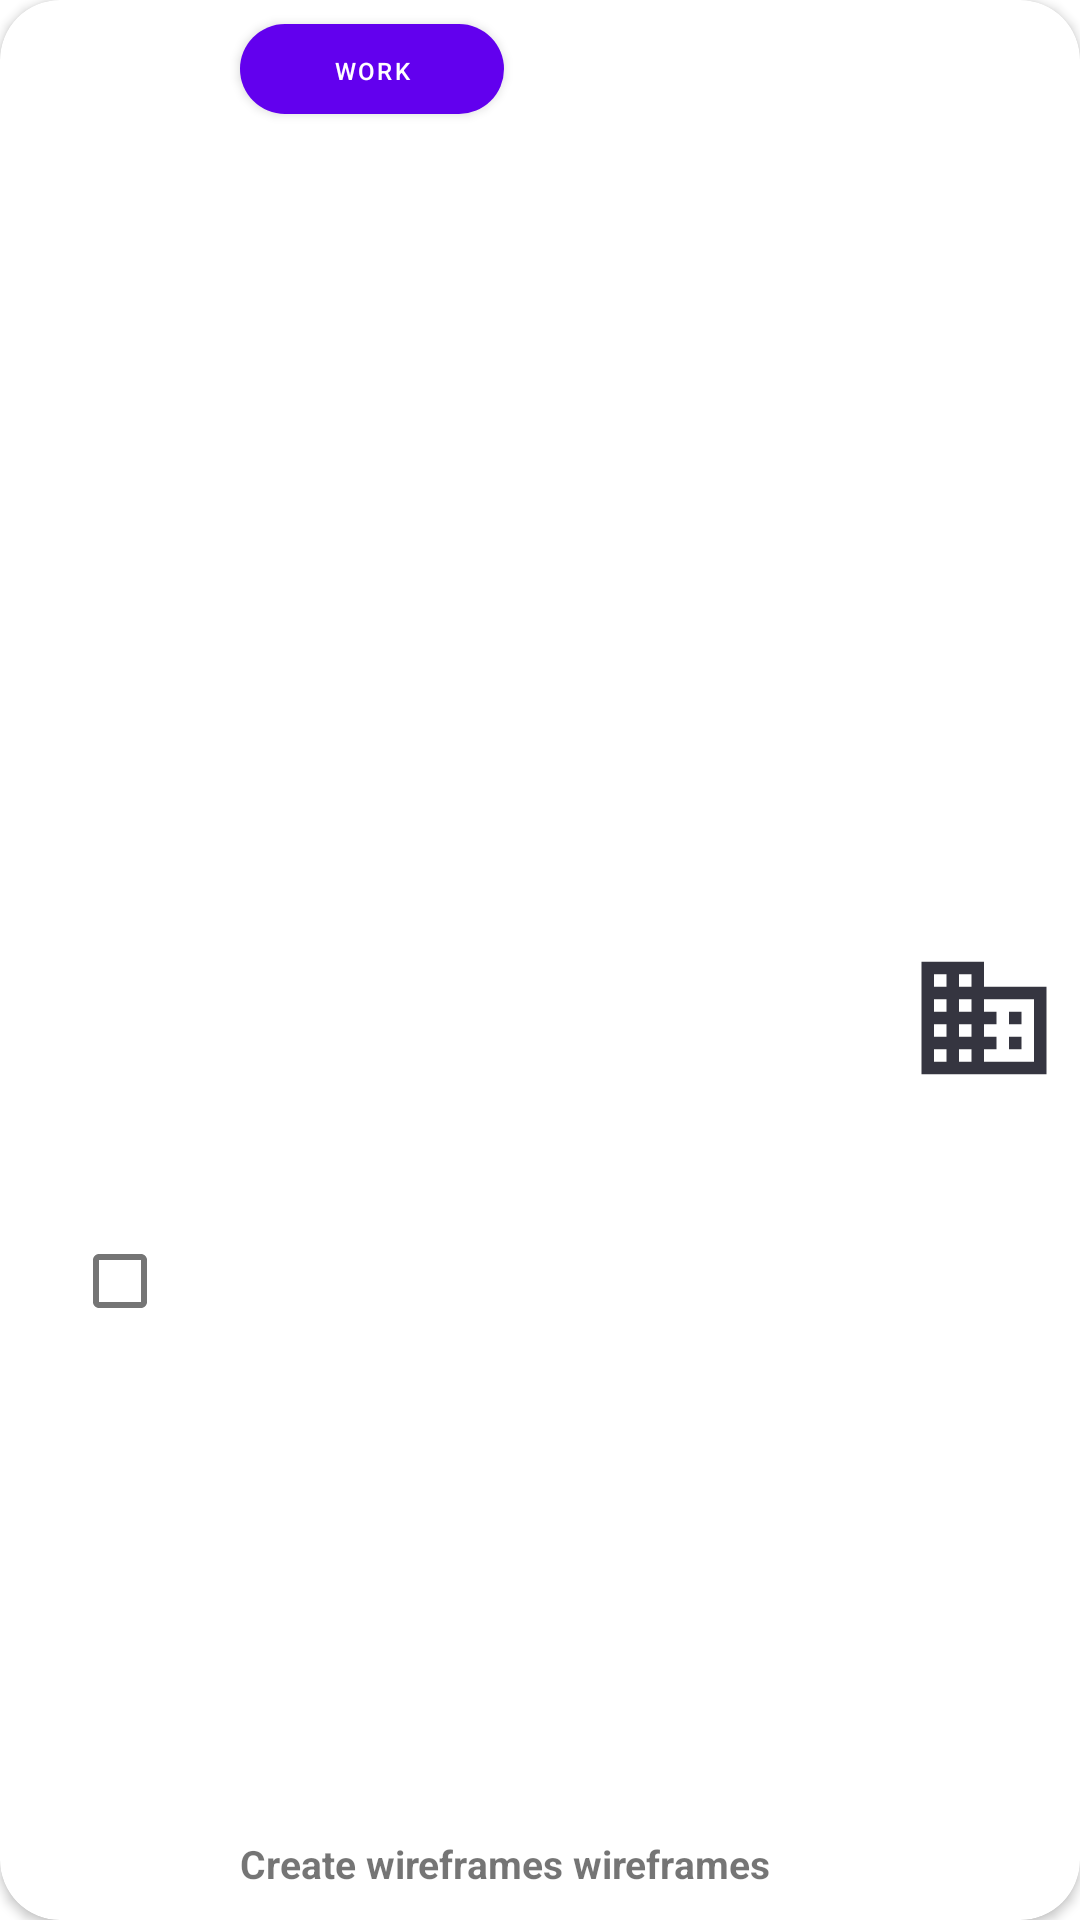

Screen size 1080x1920. Icon name, then its center in pixels as (x,y):
business: (984,1018)
